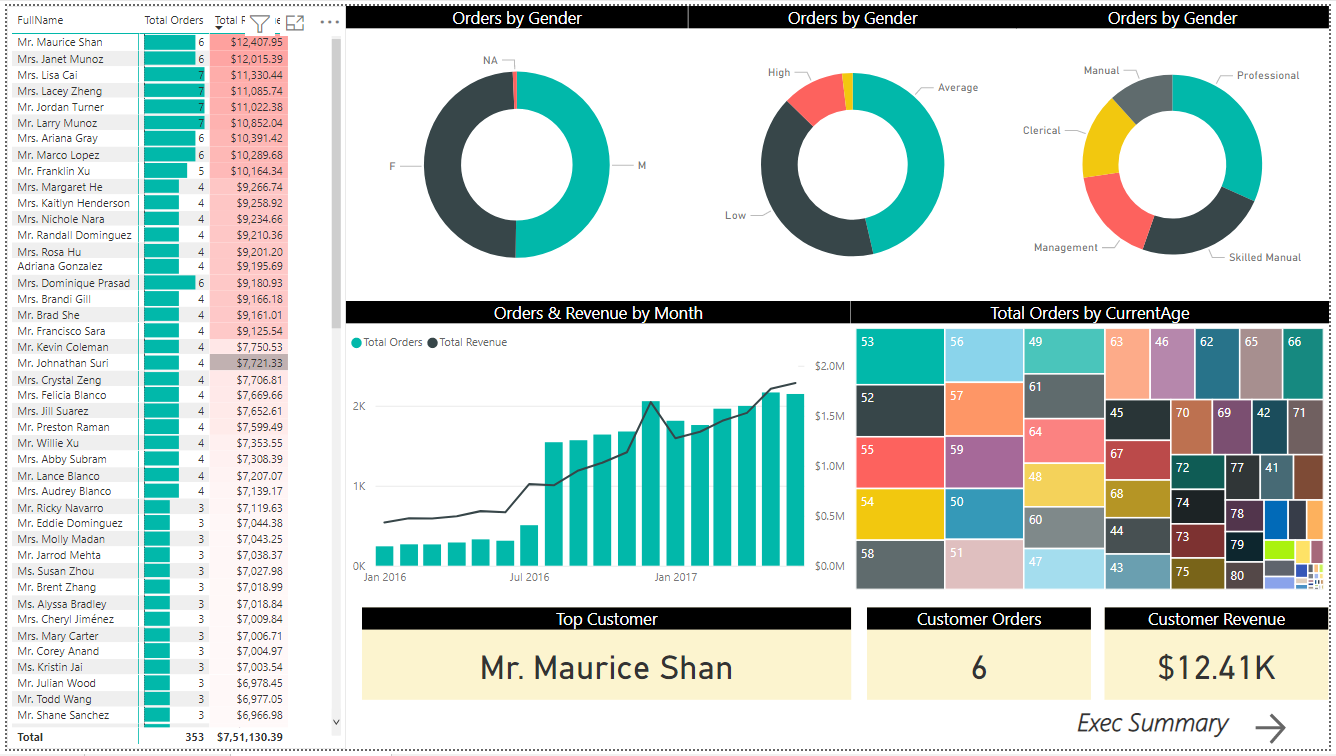

Layout of this report page (visuals, bound fields, positions):
{"tool":"powerbi","page":{"name":"Customer Detail","canvas":[1280,720],"ordinal":2},"visuals":[{"type":"pivotTable","fields":{"Rows":["AW_Customer_Lookup.FullName"],"Values":["AW_Sales.Total Orders","AW_Sales.Total Revenue"]},"box":[0,0,328.2,719.7],"z":0},{"type":"donutChart","title":"Orders by Gender","fields":{"Y":["AW_Sales.Total Orders"],"Category":["AW_Customer_Lookup.Gender"]},"box":[327.9,0,331.6,285.6],"z":1000},{"type":"donutChart","title":"Orders by Gender","fields":{"Y":["AW_Sales.Total Orders"],"Category":["AW_Customer_Lookup.IncomeLevel"]},"box":[659.5,0,318.3,285.6],"z":2000},{"type":"donutChart","title":"Orders by Gender","fields":{"Y":["AW_Sales.Total Orders"],"Category":["AW_Customer_Lookup.Occupation"]},"box":[976.5,0,303.5,285.7],"z":3000},{"type":"lineClusteredColumnComboChart","title":"Orders & Revenue by Month","fields":{"Y2":["AW_Sales.Total Revenue"],"Y":["AW_Sales.Total Orders"],"Category":["AW_Calendar_Lookup.Start of Month"]},"box":[328.2,285.7,488.9,284.3],"z":4000},{"type":"treemap","fields":{"Group":["AW_Customer_Lookup.CurrentAge"],"Values":["AW_Sales.Total Orders"]},"box":[817.2,285.7,462.8,284.3],"z":5000},{"type":"card","title":"Top Customer","fields":{"Values":["Min(AW_Customer_Lookup.FullName)"]},"box":[343.3,582.3,473.8,89.3],"z":6000},{"type":"card","title":"Customer Orders","fields":{"Values":["AW_Sales.Total Orders"]},"box":[832.3,582.3,217,89.3],"z":7000},{"type":"card","title":"Customer Revenue","fields":{"Values":["AW_Sales.Total Revenue"]},"box":[1063,582.3,217,89.3],"z":8000},{"type":"textbox","box":[1031.2,671.5,245.4,47.7],"z":9000},{"type":"actionButton","box":[1203.3,680.1,76.7,39.2],"z":10000}]}

Visuals, with their boxes in screenshot pixels (x1, y1, x2, y2), scaled from the page's 1280x720 canvas onto the 1336x756 screenshot:
pivotTable - AW_Customer_Lookup.FullName x AW_Sales.Total Orders: l=0, t=0, r=343, b=755
"Orders by Gender" donutChart: l=342, t=0, r=688, b=300
"Orders by Gender" donutChart: l=688, t=0, r=1021, b=300
"Orders by Gender" donutChart: l=1019, t=0, r=1335, b=300
"Orders & Revenue by Month" lineClusteredColumnComboChart: l=343, t=300, r=853, b=598
treemap - AW_Customer_Lookup.CurrentAge x AW_Sales.Total Orders: l=853, t=300, r=1335, b=598
"Top Customer" card: l=358, t=611, r=853, b=705
"Customer Orders" card: l=869, t=611, r=1095, b=705
"Customer Revenue" card: l=1110, t=611, r=1335, b=705
textbox: l=1076, t=705, r=1332, b=755
actionButton: l=1256, t=714, r=1335, b=755
